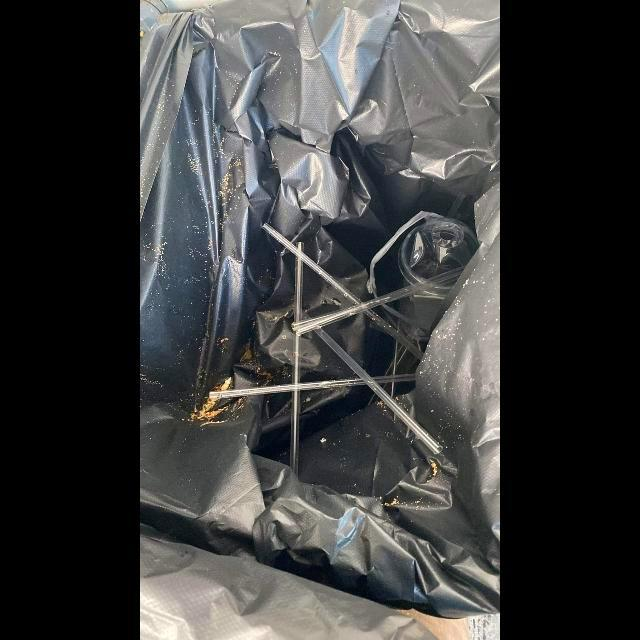plastic_container: (397, 218, 480, 342)
